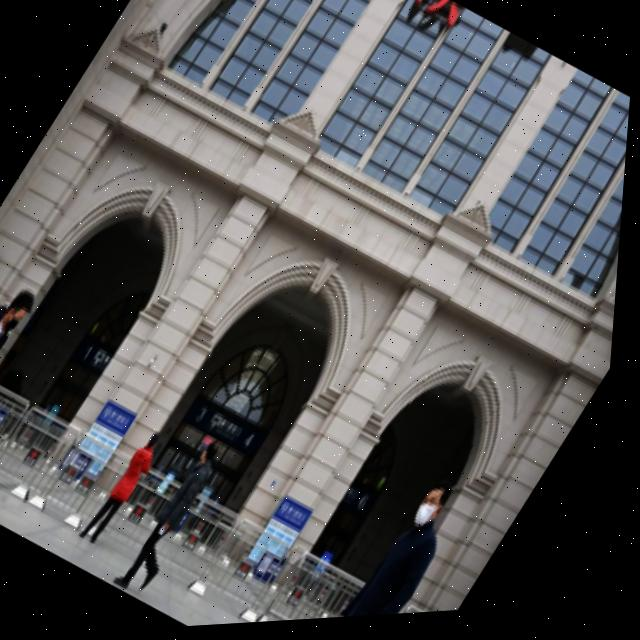Mask: (413, 494, 457, 541), (4, 298, 36, 334)
